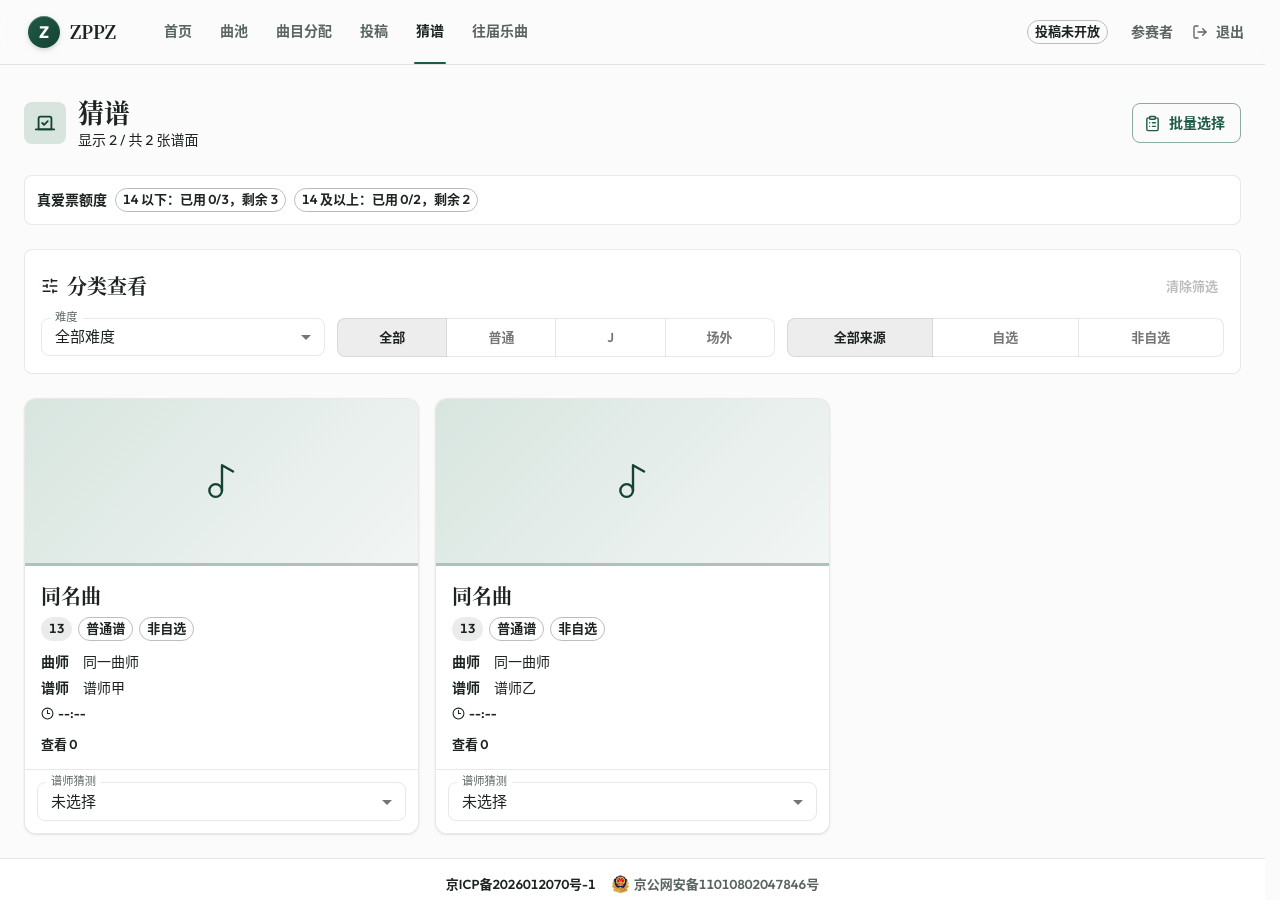
Scenario: Material application shell › does not sync designer guesses across same-title charts from different submissions
Step 1. Press the mouse on the dropdown named "谱师猜测 同名曲" → (74, 801), box left=51, top=792, right=96, bottom=811
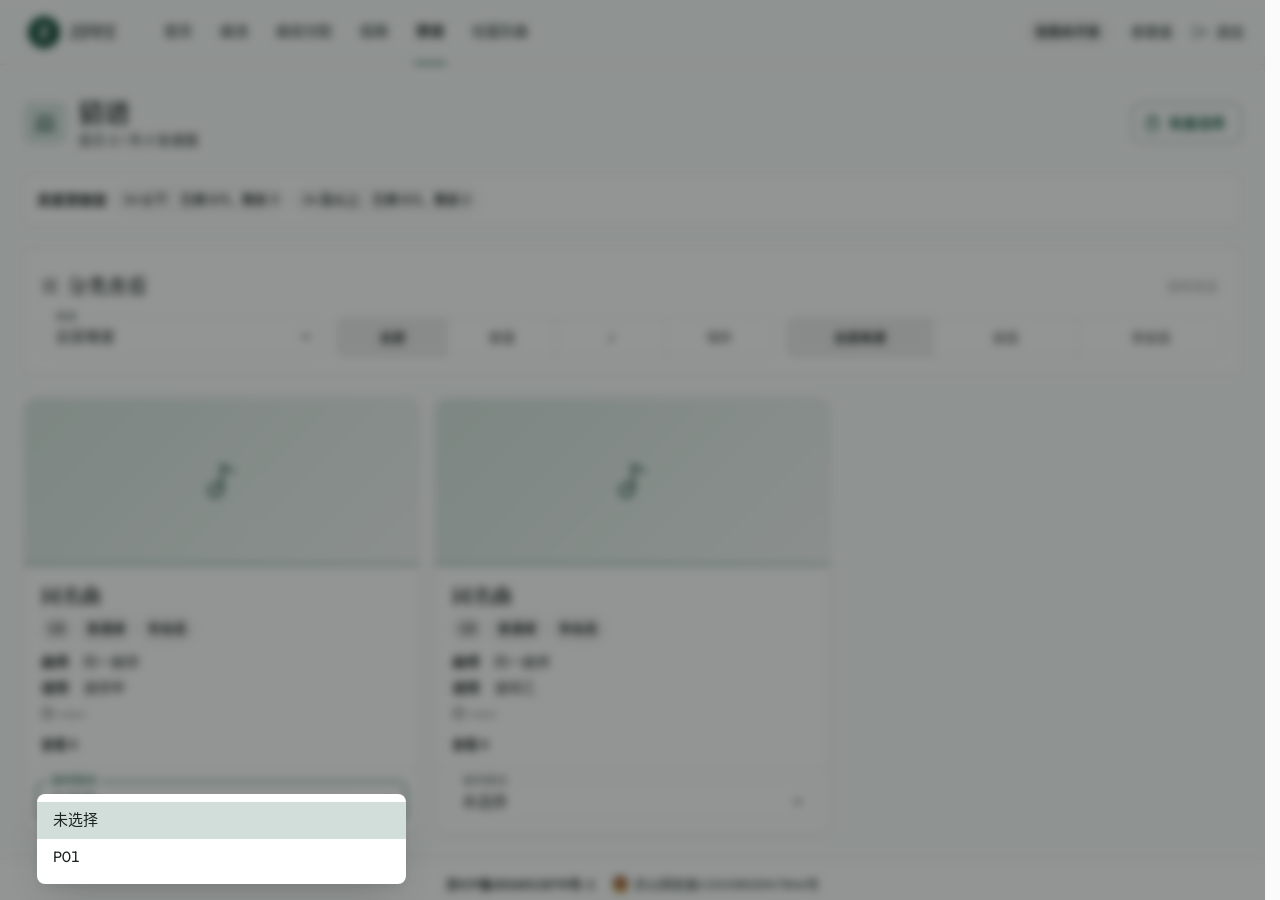
Step 2. Click the option "P01" → (66, 856), box left=53, top=847, right=80, bottom=866
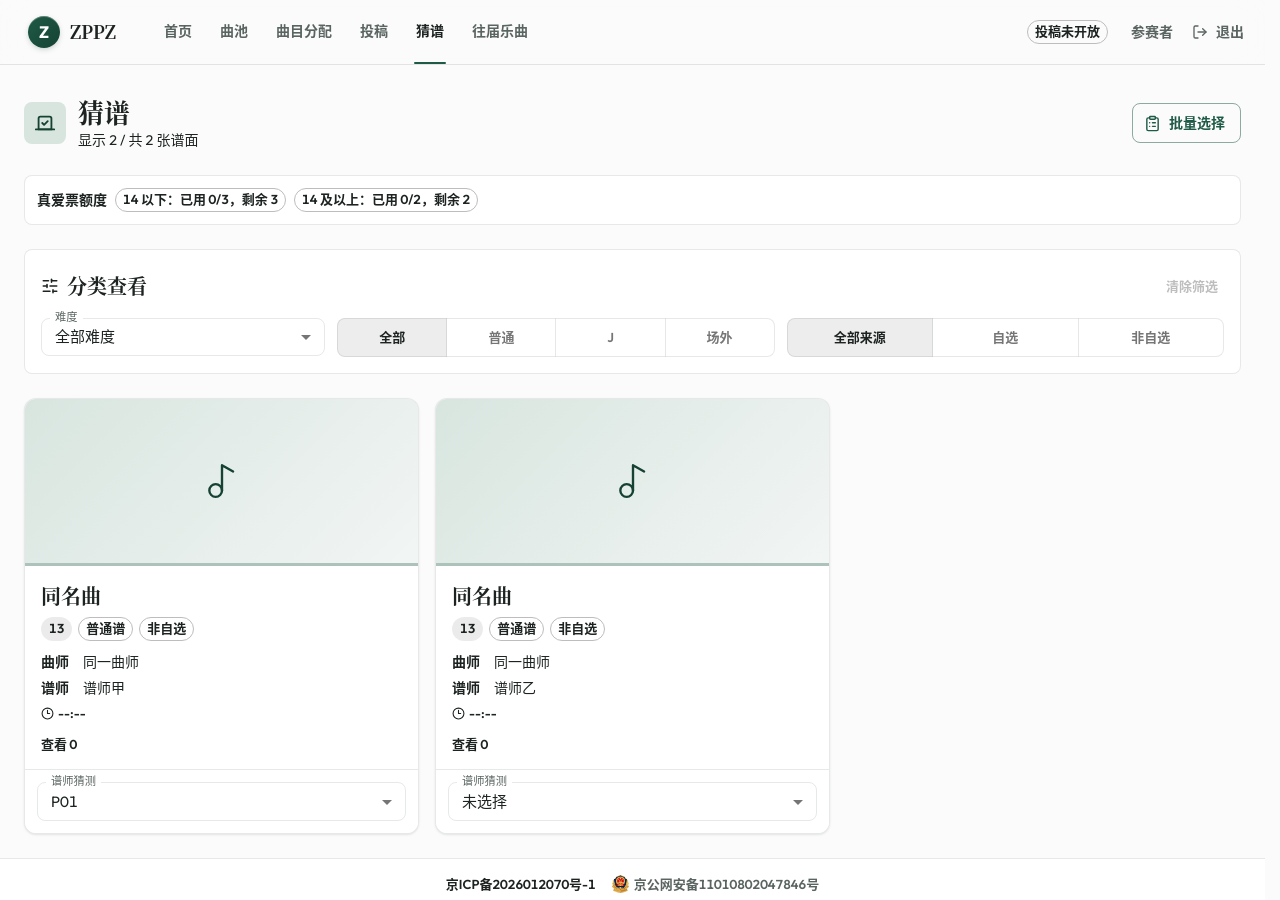
Expected: the dropdown labelled "谱师猜测 同名曲" does not show "P01"
Result: the dropdown named "谱师猜测 同名曲" reads "P01" at left=51, top=792, right=78, bottom=811
